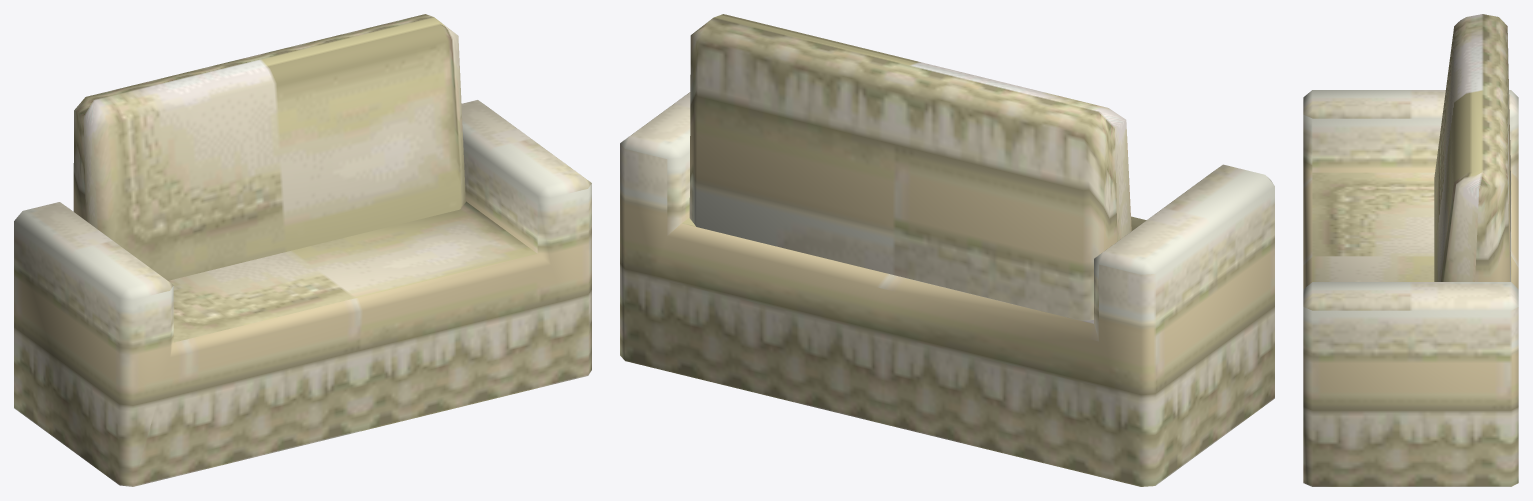
The model's file is rmk_ryl_chairL.dae.
The picture shows the model from 3 angles, left to right: view 1: azimuth 30°, elevation 25°; view 2: azimuth 150°, elevation 25°; view 3: azimuth 270°, elevation 25°; orthographic projection. The views are drawn at different scales.
Parts seen in each view (by area): view 1: rmk_ryl_chairL; view 2: rmk_ryl_chairL; view 3: rmk_ryl_chairL.
Boxes of the visible parts, bbox=[...] form: rmk_ryl_chairL: bbox=[14, 14, 591, 486]; rmk_ryl_chairL: bbox=[620, 14, 1274, 486]; rmk_ryl_chairL: bbox=[1303, 14, 1518, 486].
Bounding box in the file's own units: 61 × 37.45 × 25.6.
1 material, 1 textured.
